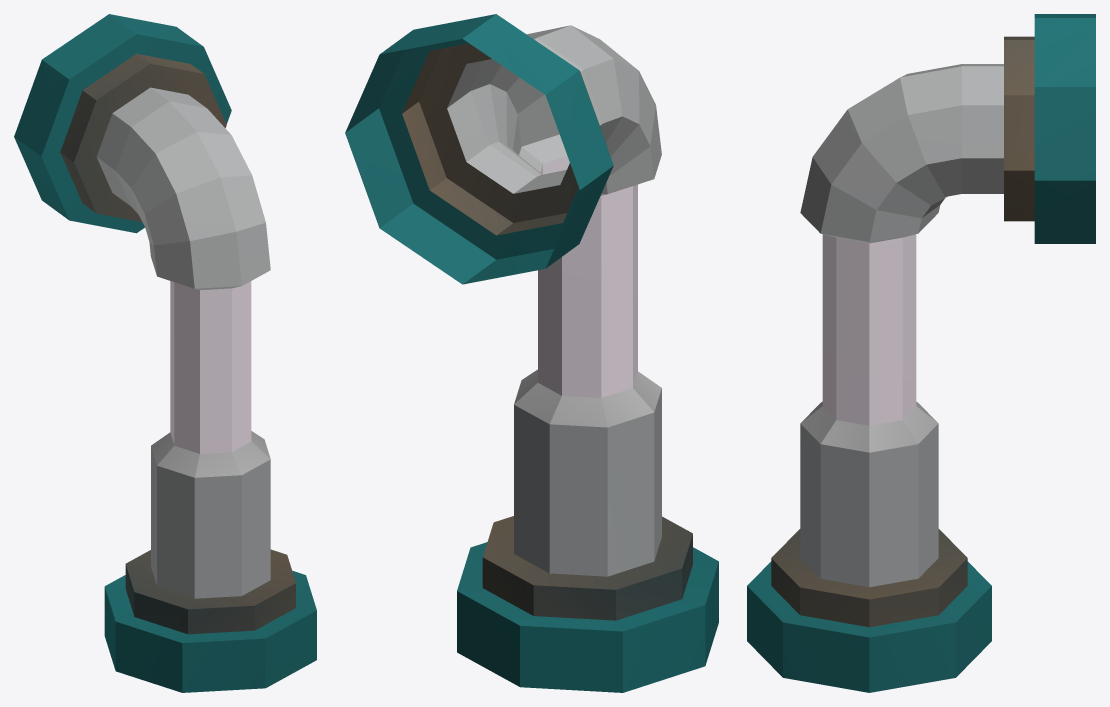
Rendered from Pipe_L_shaped_short.fbx.
The picture shows the model from 3 angles, left to right: view 1: azimuth 30°, elevation 25°; view 2: azimuth 150°, elevation 25°; view 3: azimuth 270°, elevation 25°; orthographic projection. The views are drawn at different scales.
Visible parts, largest first — view 1: Pipe_L_shaped_short; view 2: Pipe_L_shaped_short; view 3: Pipe_L_shaped_short.
Boxes of the visible parts, x1,y1,x2,y2 form: Pipe_L_shaped_short: [14, 14, 316, 692]; Pipe_L_shaped_short: [345, 14, 718, 692]; Pipe_L_shaped_short: [747, 14, 1095, 692].
Size of the model in its own units: 32.45 by 91.18 by 46.24.
